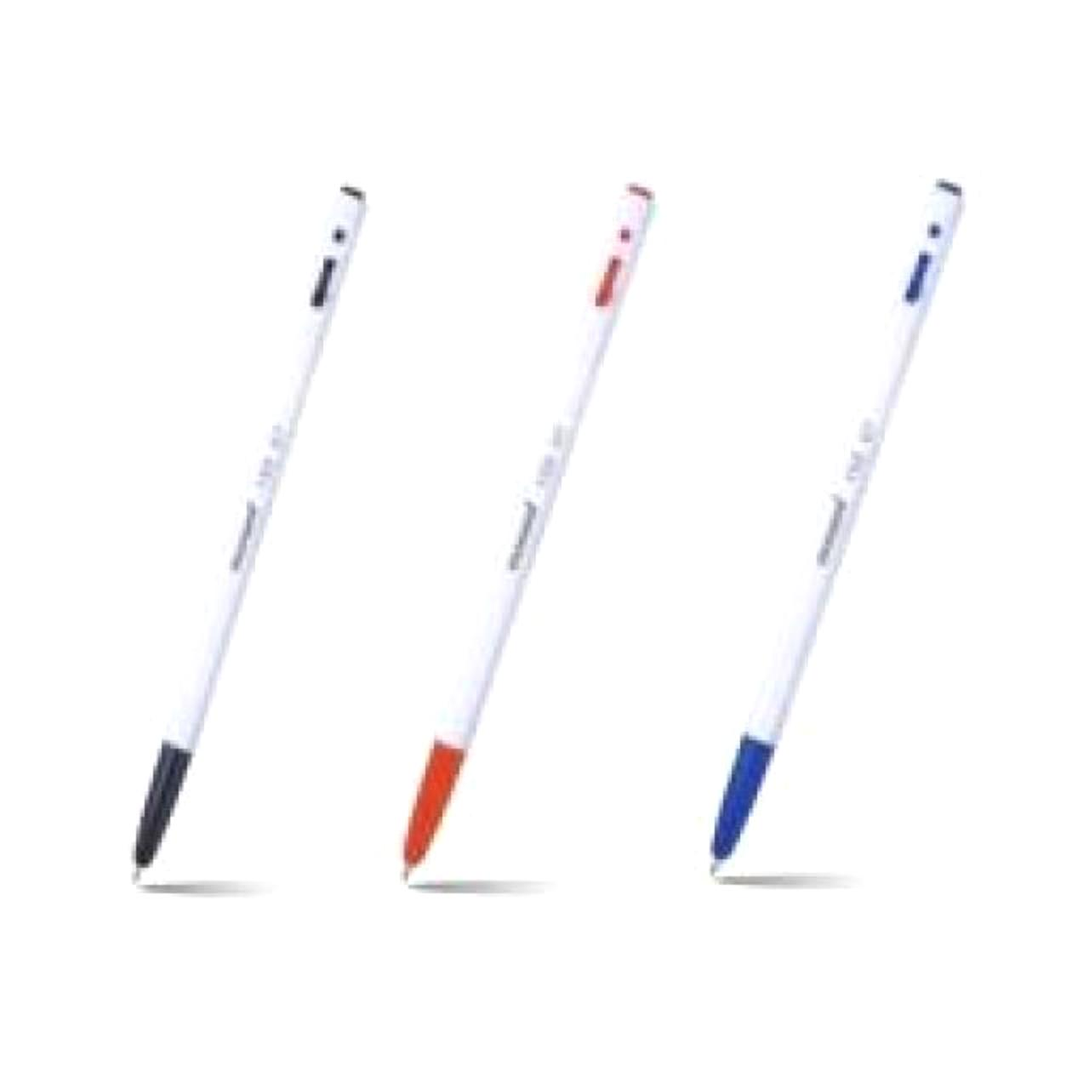pen: (124, 184, 379, 895)
